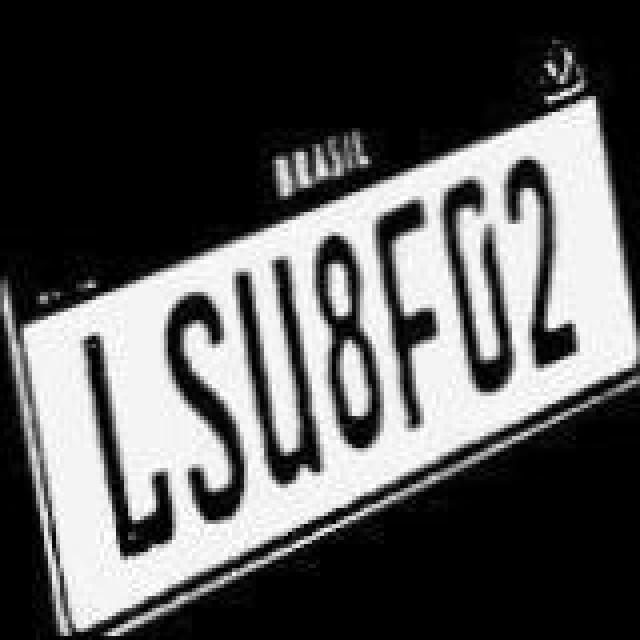2: (502, 156, 586, 372)
8: (314, 230, 394, 450)
D: (434, 182, 522, 398)
F: (370, 198, 450, 430)
L: (76, 330, 180, 558)
S: (162, 296, 254, 524)
U: (230, 266, 334, 486)
